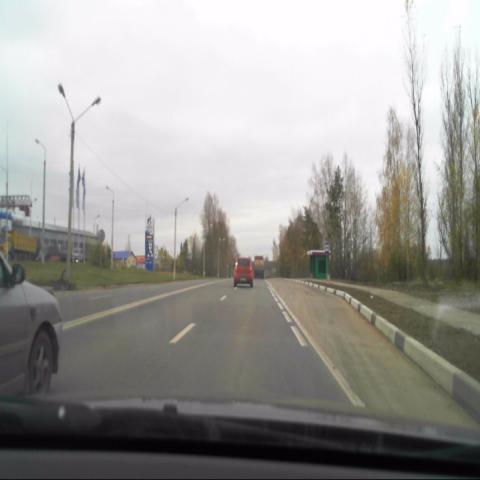5_16: (324, 242, 330, 255)
